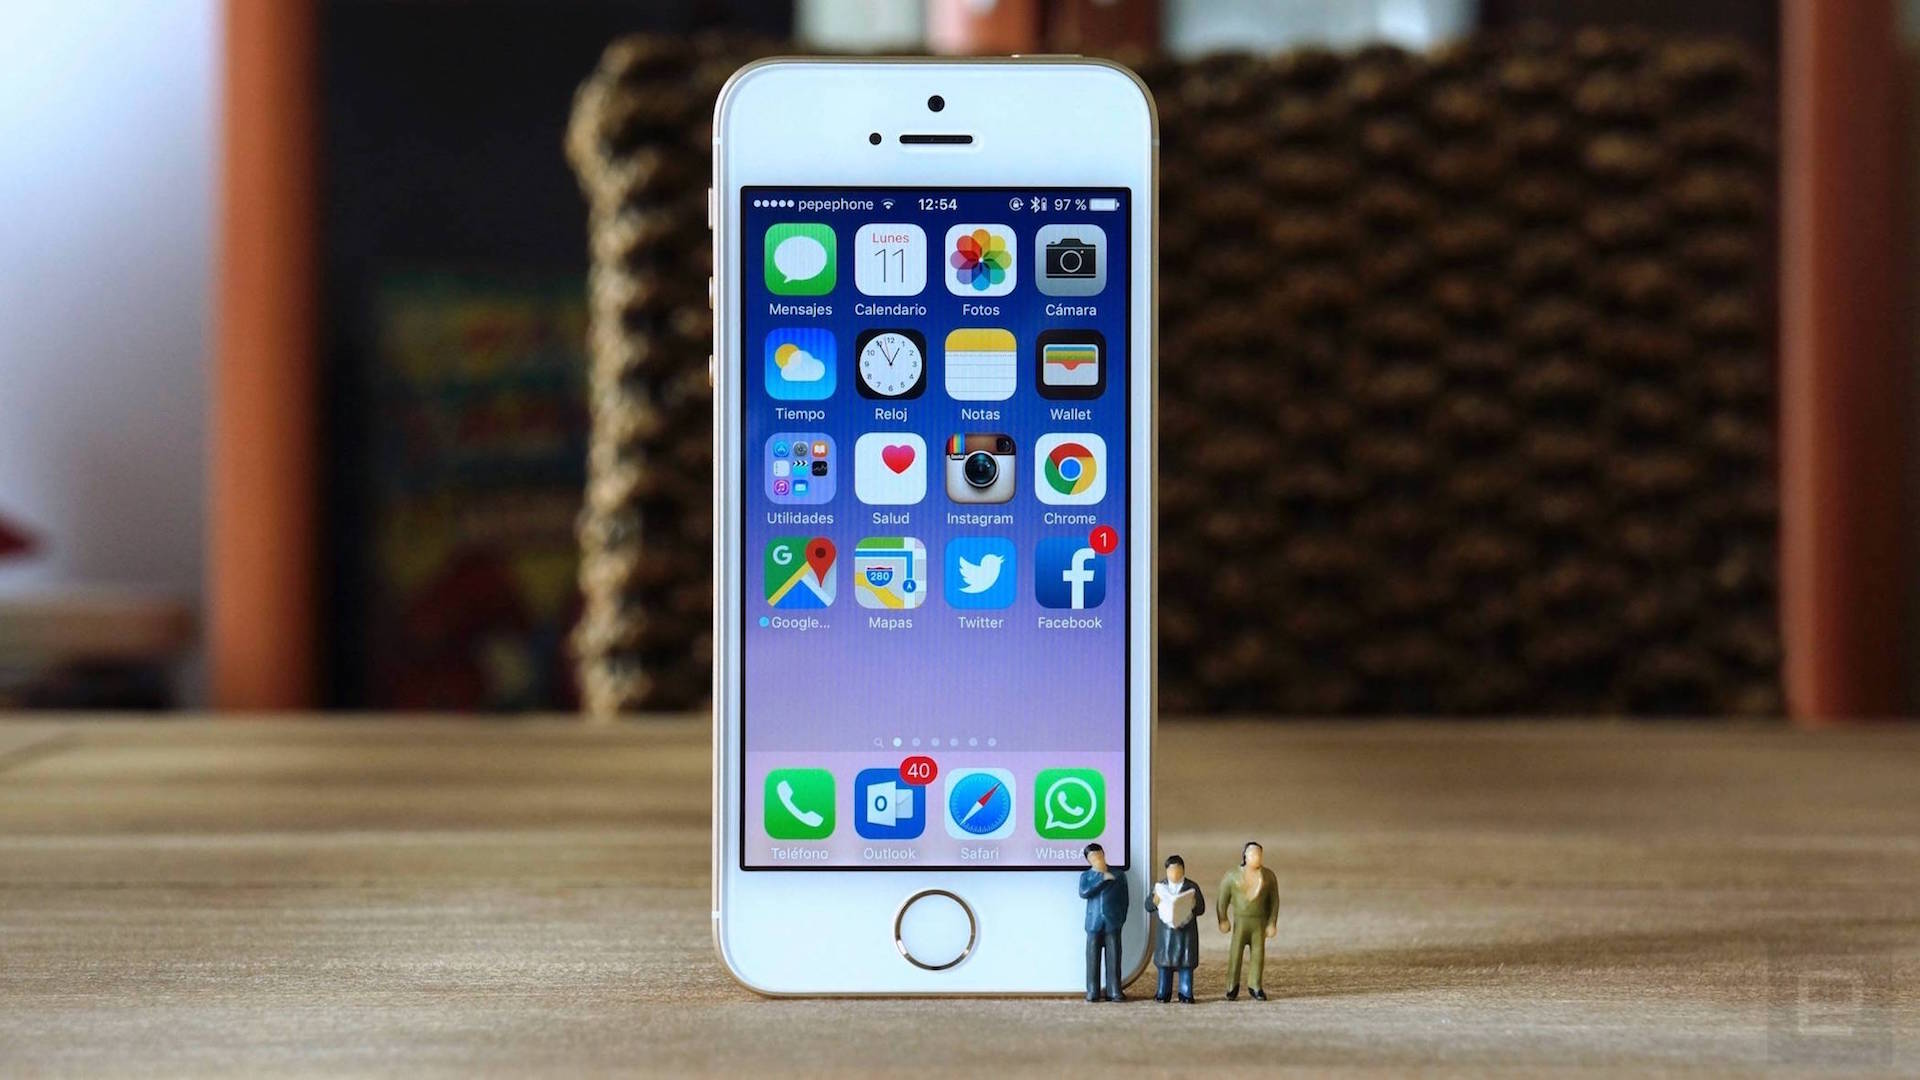smartphone: (705, 49, 1160, 996)
